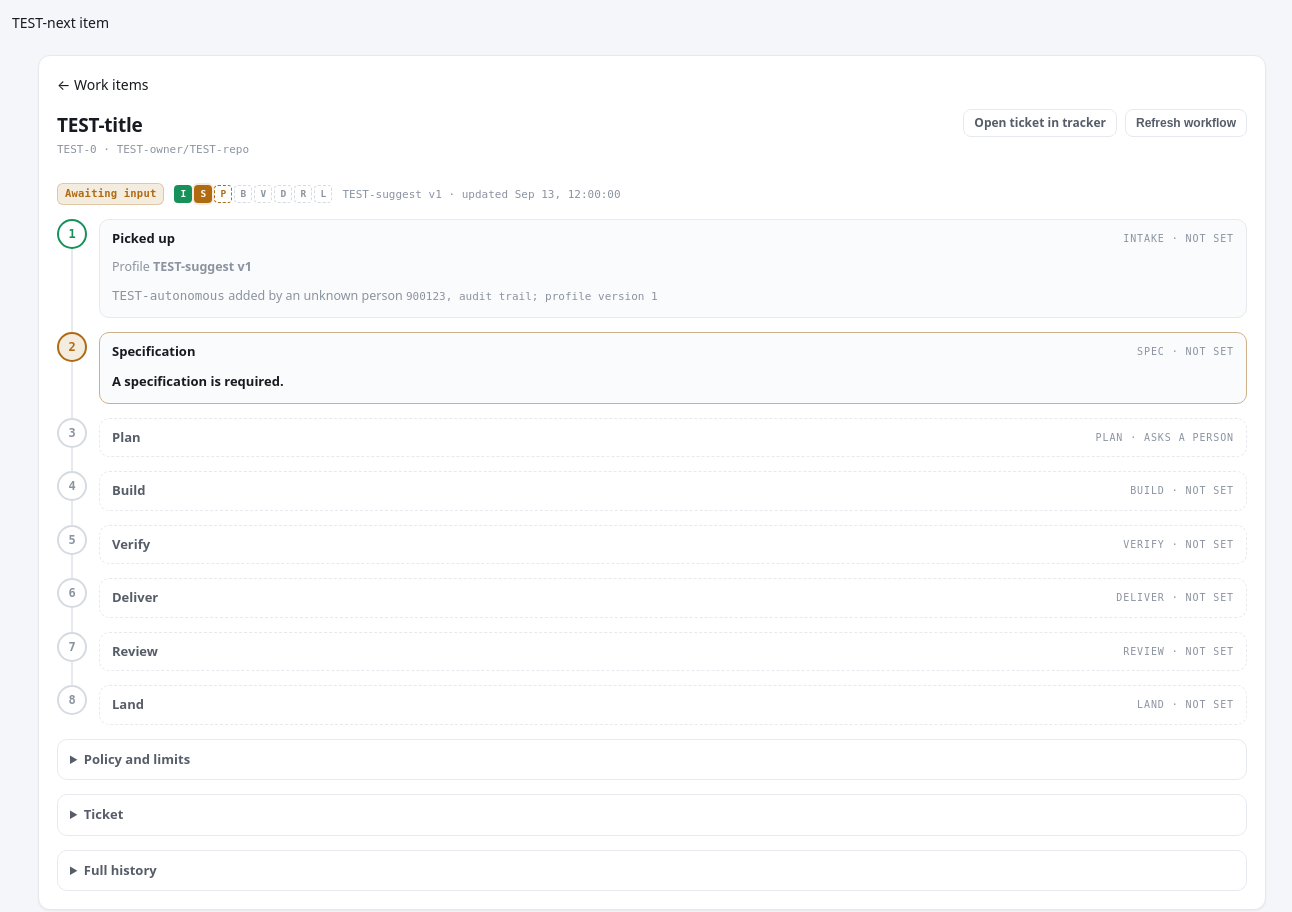
Test: shows a failed re-read beside the item it could not refresh
The image size is (1292, 912).
Click the button "Refresh workflow" at (1186, 123), box [1125,109,1247,137]
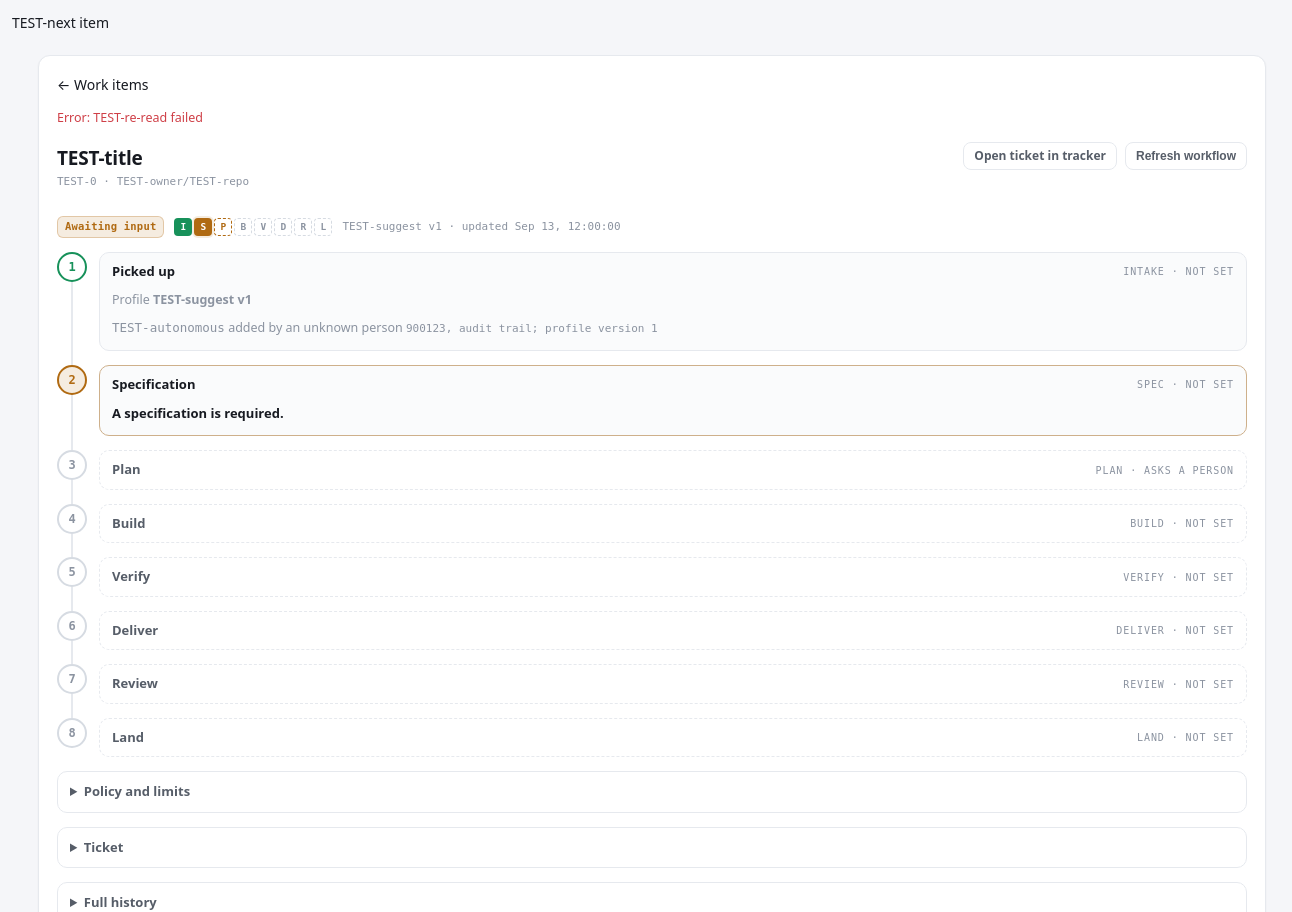
Expected: the heading "TEST-title" is shown, [57,145,142,171]
Expected: the message shows "TEST-re-read failed", [57,109,203,126]
